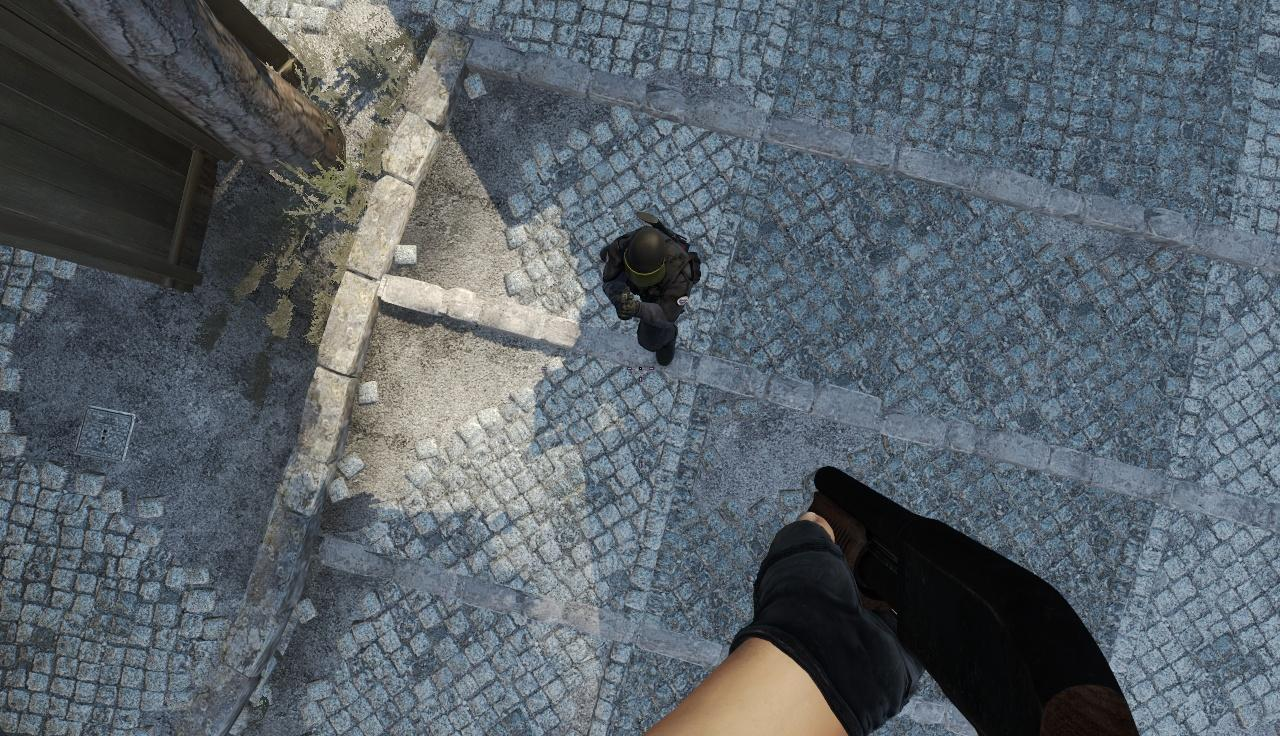ct: (605, 223, 701, 367)
cthead: (624, 227, 667, 288)
shotgun: (785, 464, 1139, 736)
